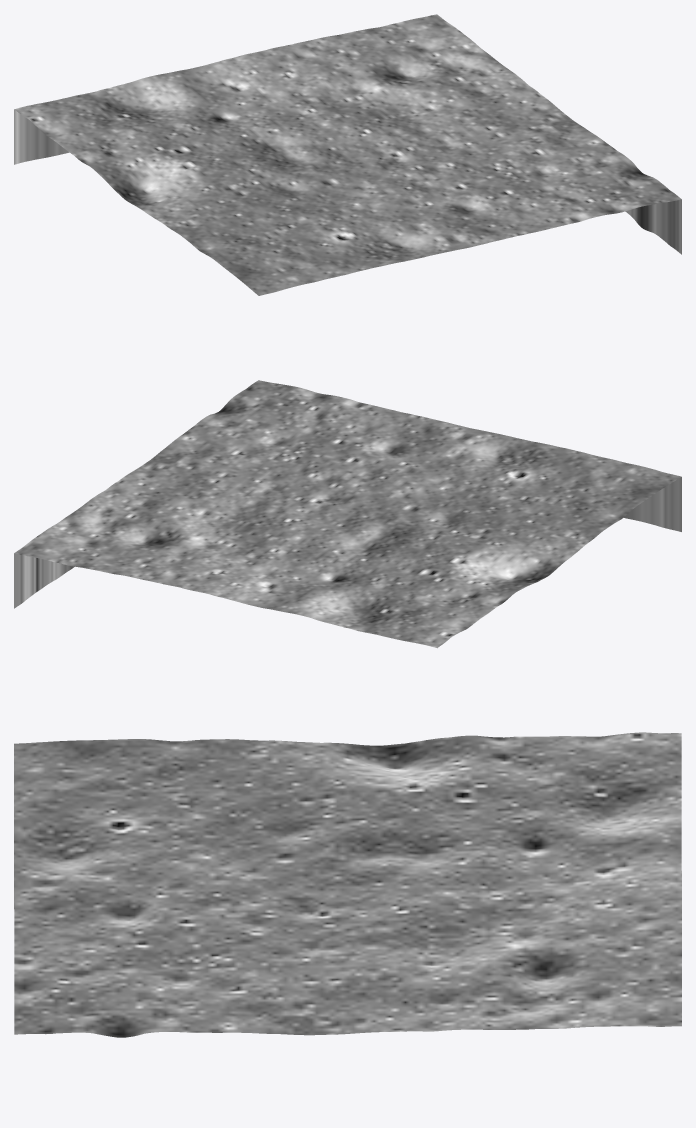
The picture shows the model from 3 angles, top to bottom: view 1: azimuth 30°, elevation 25°; view 2: azimuth 150°, elevation 25°; view 3: azimuth 270°, elevation 25°; orthographic projection. The views are drawn at different scales.
Size of the model in its own units: 638 by 105 by 639.
1 material, 1 textured.
